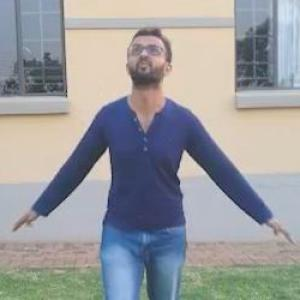land: (9, 20, 298, 299)
